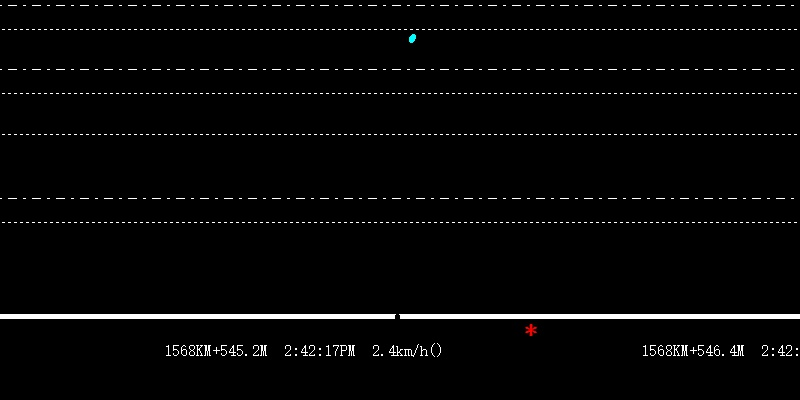face_down: (407, 26, 418, 45)
star: (522, 320, 540, 337)
